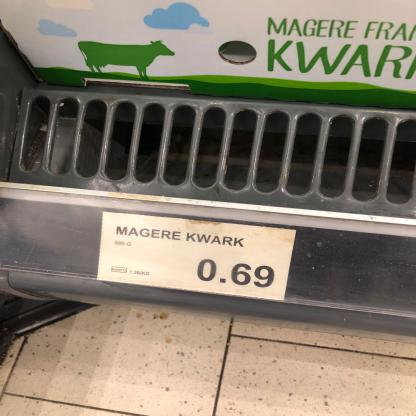prtg: (99, 213, 297, 302)
